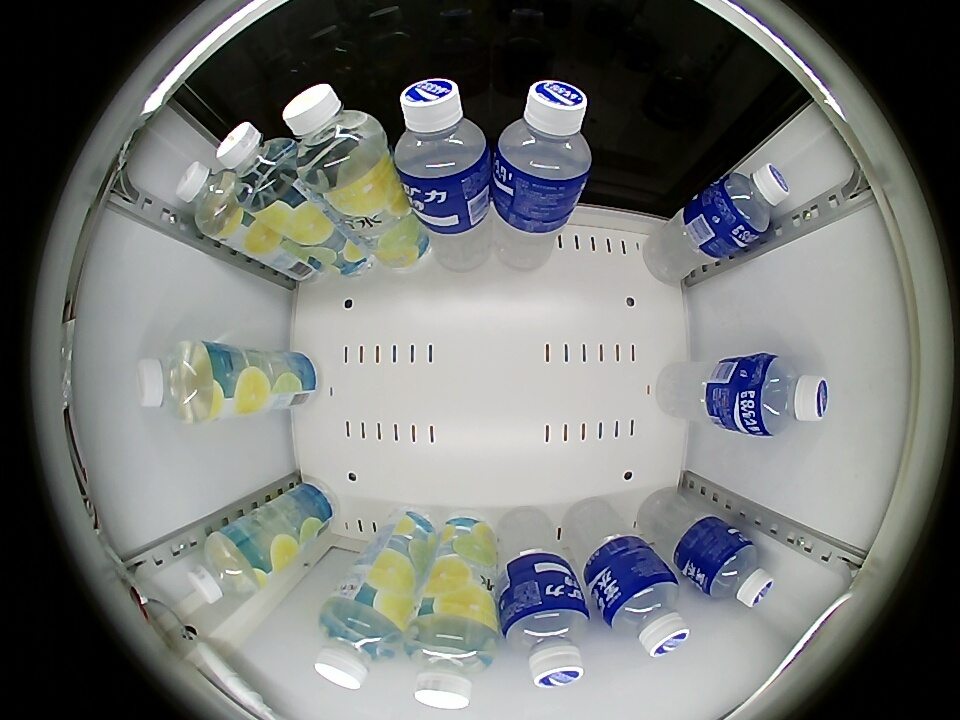baokuangli: (493, 80, 591, 197), (392, 78, 489, 192), (500, 588, 589, 688), (597, 564, 689, 658), (742, 353, 830, 437), (710, 164, 790, 244), (699, 534, 774, 608)
qinningshui: (282, 82, 389, 192), (402, 611, 500, 710), (315, 592, 404, 691), (135, 339, 222, 424), (216, 122, 303, 205), (187, 527, 265, 604), (176, 161, 248, 238)
